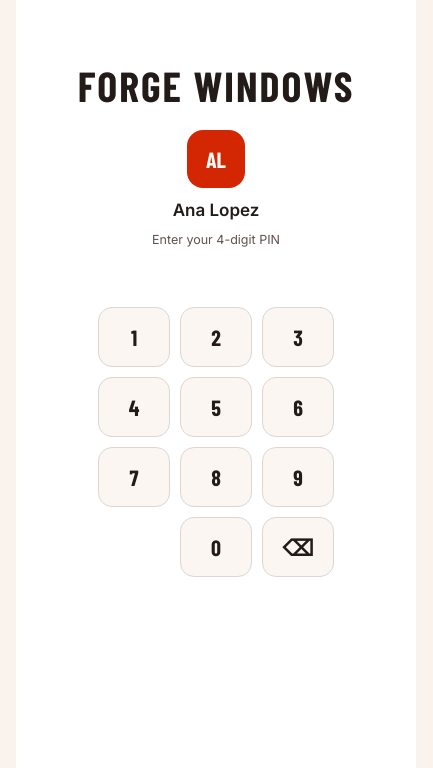
Test case: the shift-long offline unlock (owner's decision, 2026-09-24) › the fifth wrong try says the offline unlock is gone
The width and height of the screenshot is (433, 768).
Click the button "5".
click(216, 407)  # box [180,377,252,437]
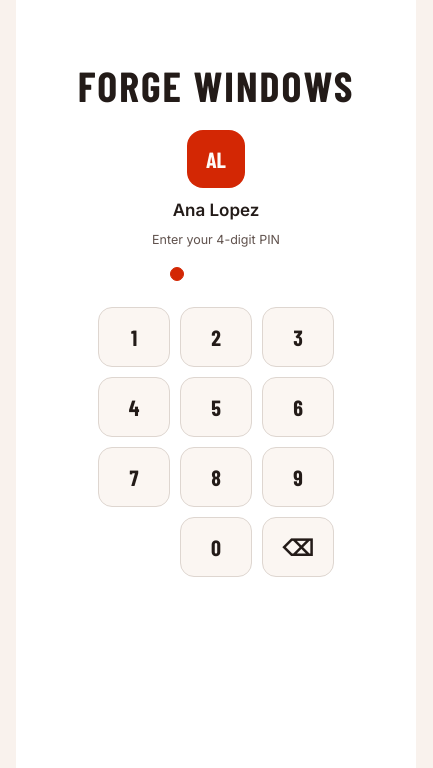
Click the button "5".
click(216, 407)  # box [180,377,252,437]
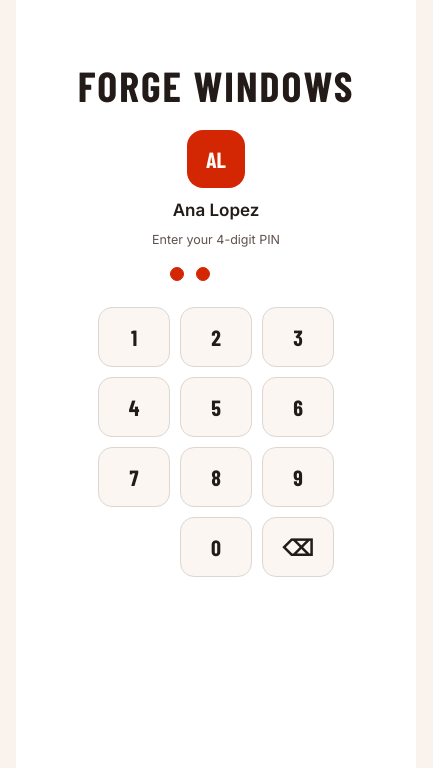
Click the button "5".
click(216, 407)  # box [180,377,252,437]
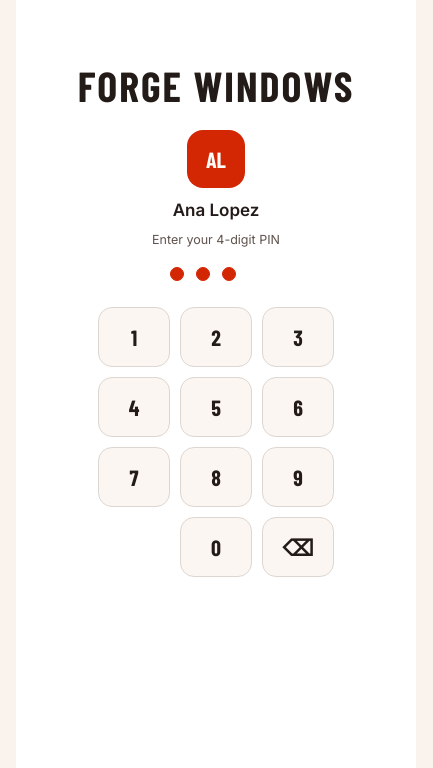
Click the button "5".
click(216, 407)  # box [180,377,252,437]
Wait 100 ms
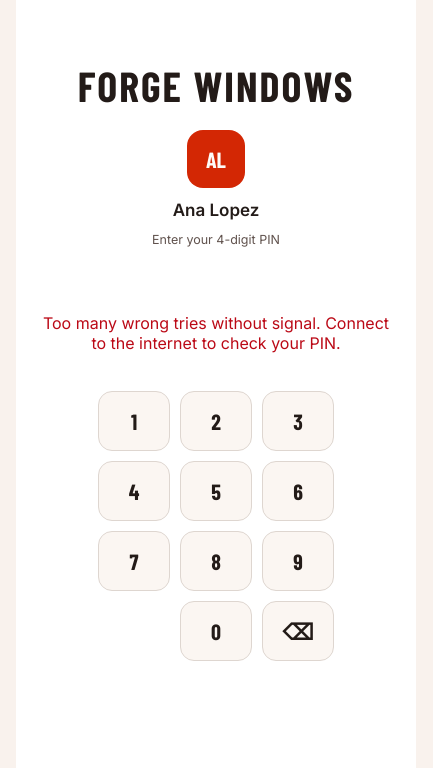
Result: the text "Too many wrong tries without signal. Connect to the internet to check your PIN." is shown at [38,313,394,353]
